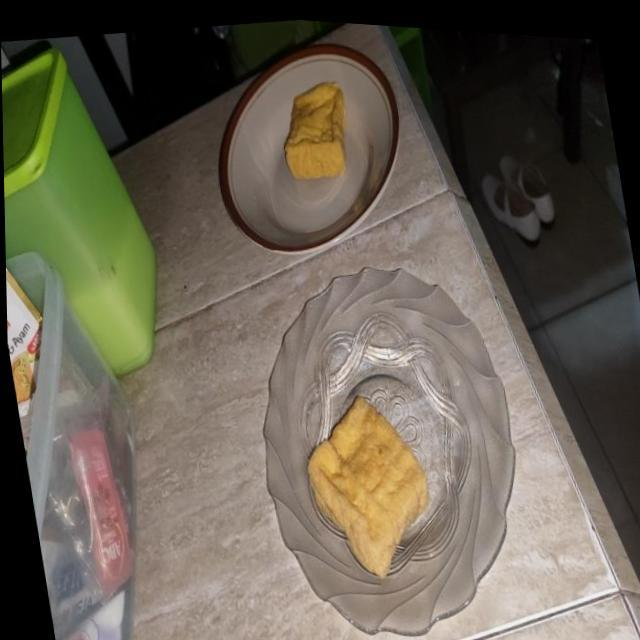tahu_goreng: (308, 396, 429, 578), (284, 83, 346, 179)
